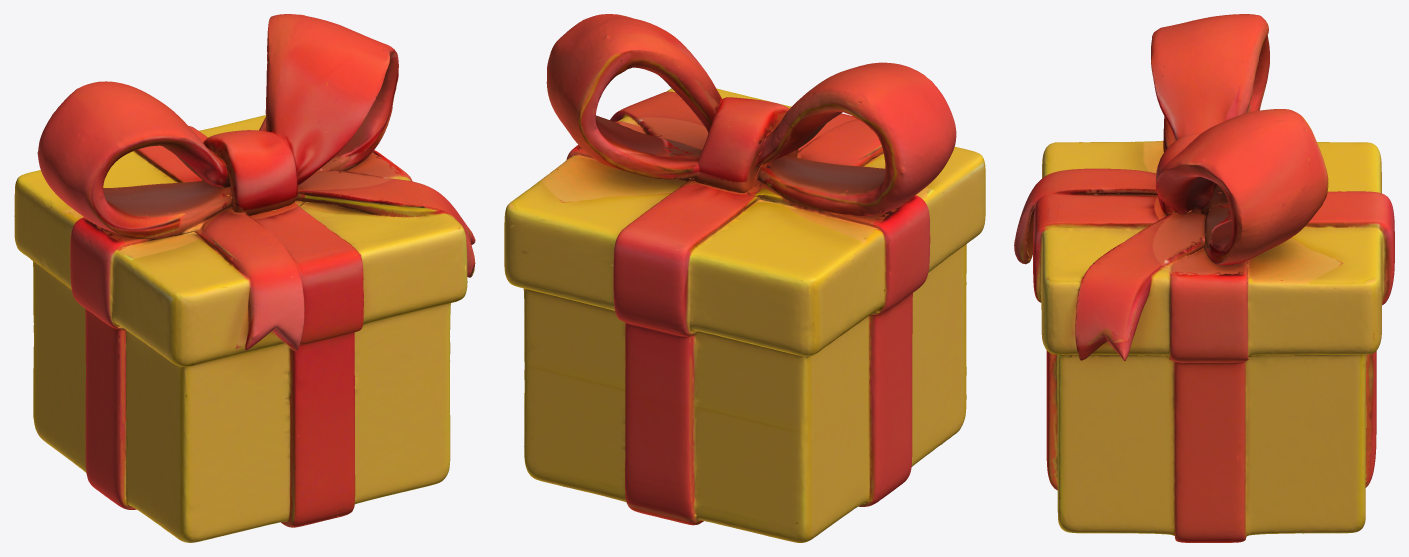
The model's file is Gift_Box_Delight_1006083513.fbx.
The picture shows the model from 3 angles, left to right: view 1: azimuth 30°, elevation 25°; view 2: azimuth 150°, elevation 25°; view 3: azimuth 270°, elevation 25°; orthographic projection. The views are drawn at different scales.
Parts seen in each view (by area): view 1: Mesh1.0; view 2: Mesh1.0; view 3: Mesh1.0.
Boxes of the visible parts, <box> form: Mesh1.0: <box>14,14,475,542</box>; Mesh1.0: <box>504,14,985,542</box>; Mesh1.0: <box>1014,14,1394,542</box>.
Size of the model in its own units: 184 by 190 by 162.
Materials: 1 (1 with a texture image).
